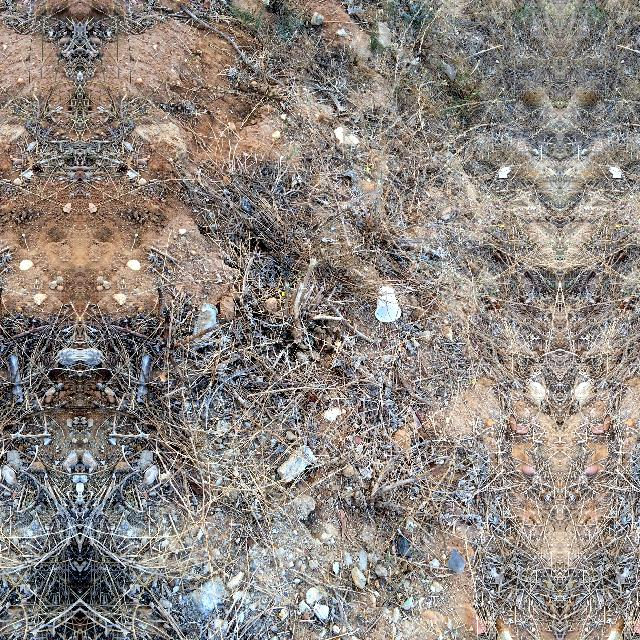Plastic: (185, 295, 223, 355), (274, 441, 320, 482), (132, 348, 160, 408), (0, 348, 28, 408), (372, 282, 403, 328), (80, 342, 108, 373), (52, 342, 80, 373)
